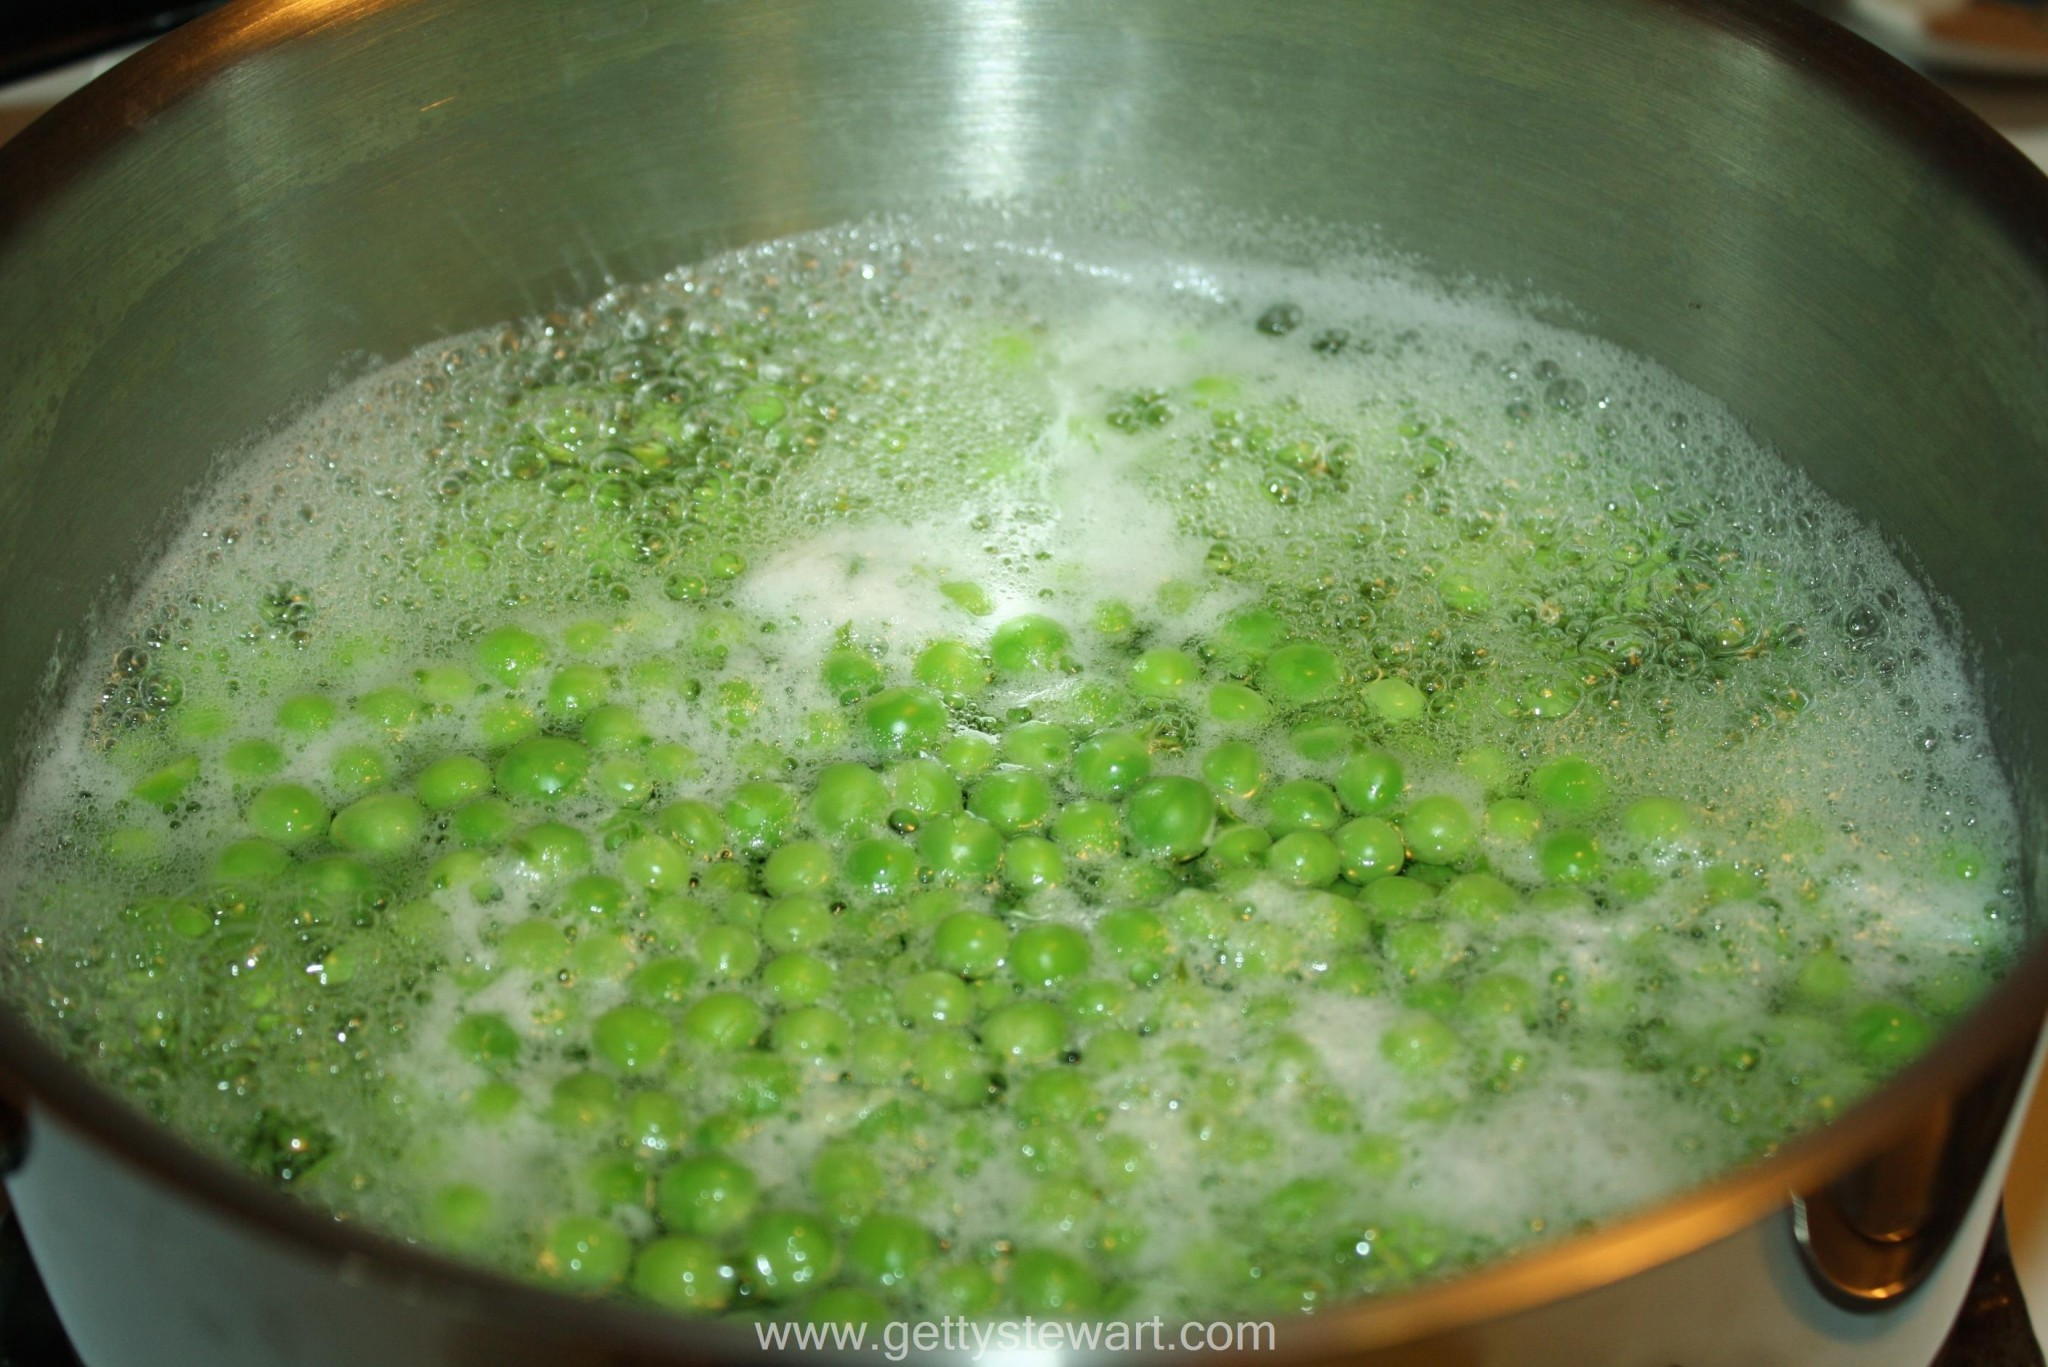boiled peas: (258, 536, 1719, 1127)
